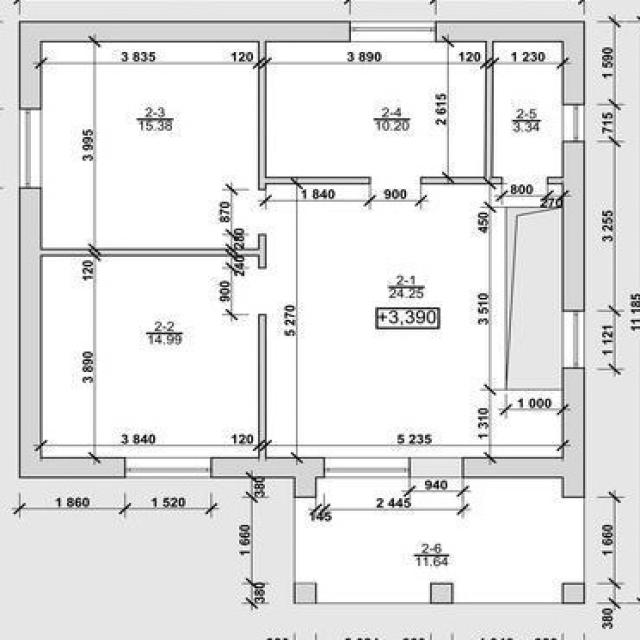Corridors: (267, 184, 562, 457), (294, 479, 584, 605), (504, 184, 546, 195)
Doors: (410, 457, 463, 479), (371, 176, 422, 185), (259, 268, 266, 314), (259, 190, 266, 233), (503, 177, 548, 183)
LBwalls: (18, 188, 126, 479), (18, 20, 351, 109), (463, 368, 585, 499), (437, 21, 585, 104), (211, 457, 325, 498), (562, 141, 585, 311), (294, 582, 318, 604), (429, 582, 453, 604), (561, 582, 584, 604)
Offices: (42, 42, 258, 246), (42, 258, 257, 457), (268, 42, 483, 176), (495, 42, 562, 176)
Walls: (257, 41, 371, 190), (489, 183, 547, 392), (420, 42, 504, 185), (41, 233, 267, 269), (258, 314, 267, 458), (546, 176, 564, 207)
Windows: (351, 20, 437, 42), (125, 457, 211, 479), (19, 108, 42, 189), (325, 458, 409, 478), (562, 311, 584, 368), (563, 104, 584, 141)
